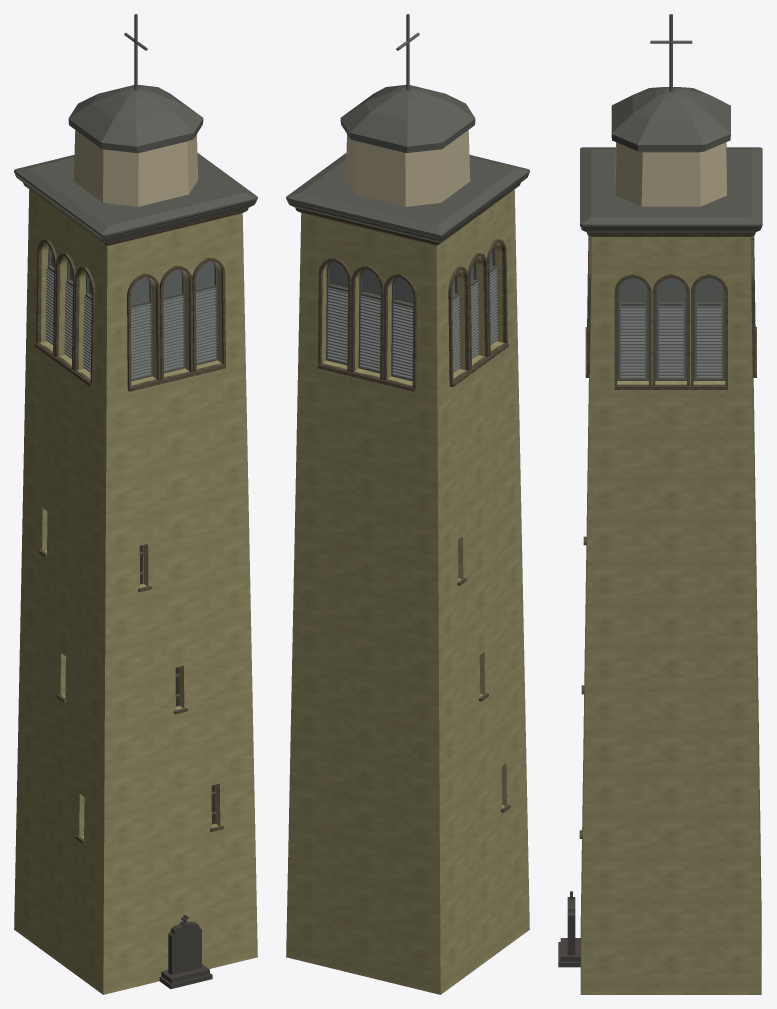
The model's file is full-source.glb.
The picture shows the model from 3 angles, left to right: view 1: azimuth 30°, elevation 25°; view 2: azimuth 150°, elevation 25°; view 3: azimuth 270°, elevation 25°; orthographic projection.
Visible parts, largest first — view 1: 息焉堂北侧独立钟楼; view 2: 息焉堂北侧独立钟楼; view 3: 息焉堂北侧独立钟楼.
Boxes of the visible parts, left/top/right/bottom form: 息焉堂北侧独立钟楼: left=14, top=14, right=257, bottom=994; 息焉堂北侧独立钟楼: left=286, top=14, right=529, bottom=994; 息焉堂北侧独立钟楼: left=558, top=14, right=762, bottom=994.
Size of the model in its own units: 3.64 by 20.68 by 4.06.
Materials: 8 (2 with a texture image).
